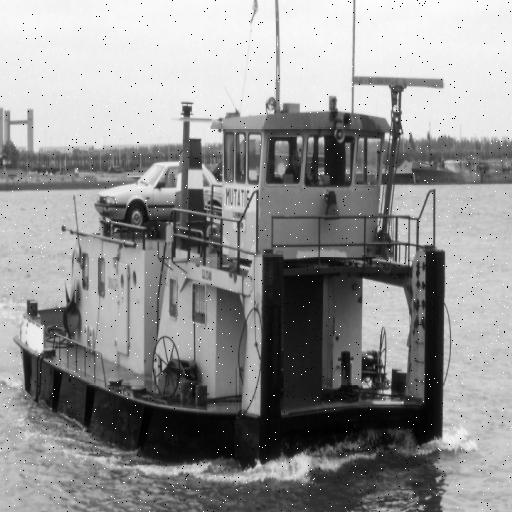tugboat: (11, 73, 454, 475)
